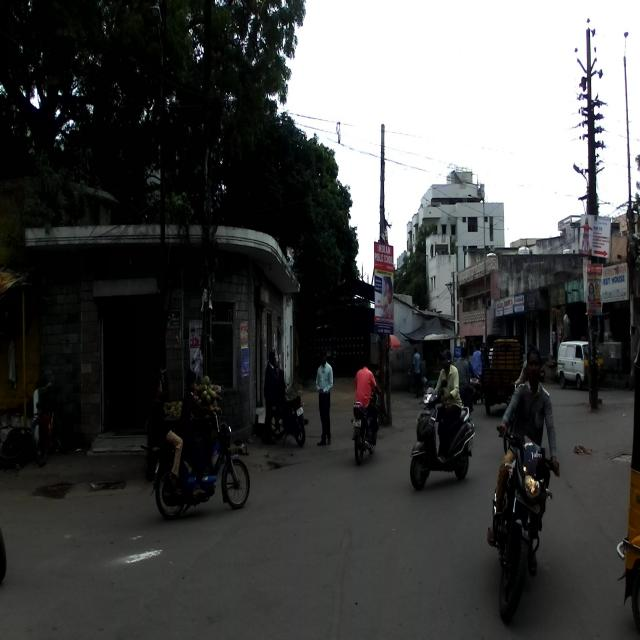motorcycle: (267, 381, 309, 446)
motorcycle_Hero: (350, 384, 381, 466)
motorcycle_TVS: (150, 397, 250, 519)
motorcycle_bajaj: (486, 424, 560, 623)
scooter: (409, 378, 476, 490)
